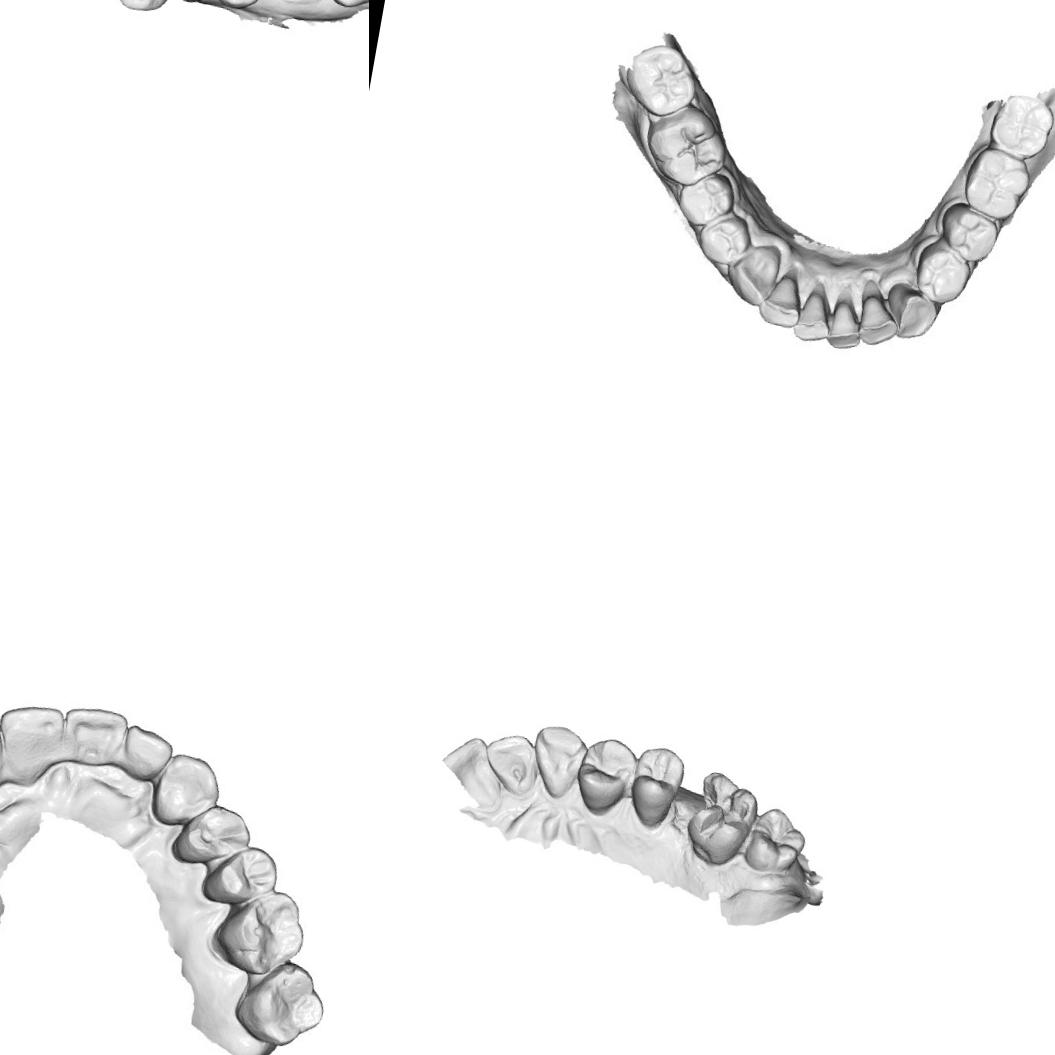canine: (153, 748, 223, 830), (524, 720, 590, 801), (724, 242, 776, 306), (887, 285, 936, 337), (106, 0, 179, 18)
incisor: (438, 730, 509, 816), (0, 702, 70, 783), (476, 728, 546, 799), (56, 702, 128, 771), (854, 279, 902, 347), (124, 724, 174, 777), (758, 268, 802, 324), (826, 288, 868, 346), (798, 278, 836, 338), (0, 724, 12, 800)
molar: (675, 765, 760, 873), (218, 887, 312, 981), (241, 960, 326, 1052), (738, 798, 814, 880), (648, 106, 725, 186), (628, 42, 698, 118), (962, 145, 1026, 219), (990, 92, 1054, 154)
premolar: (619, 738, 688, 834), (175, 796, 258, 873), (571, 730, 640, 817), (208, 841, 288, 915), (671, 170, 732, 230), (916, 239, 973, 302), (944, 204, 1004, 262), (699, 214, 752, 265)
